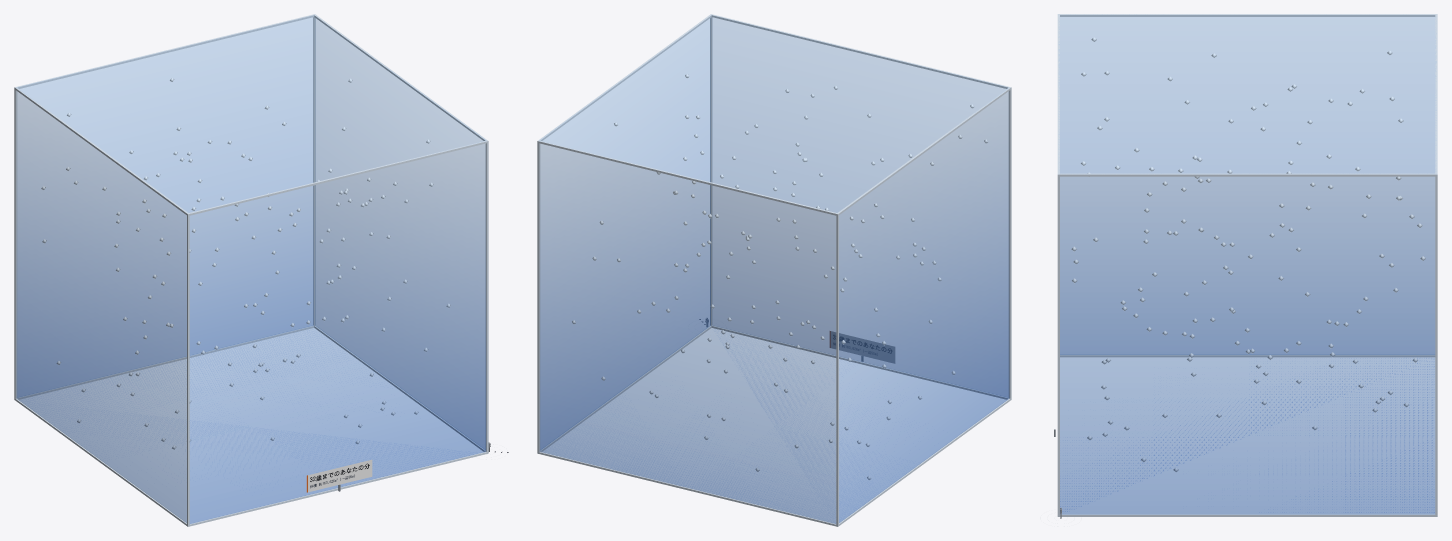
The model's file is cube_life_32.glb.
The picture shows the model from 3 angles, left to right: view 1: azimuth 30°, elevation 25°; view 2: azimuth 150°, elevation 25°; view 3: azimuth 270°, elevation 25°; orthographic projection. The views are drawn at different scales.
Parts seen in each view (by area): view 1: co2, edge, dots, label; view 2: co2, edge, dots, label; view 3: co2, edge, dots.
Boxes of the visible parts, left/top/right/bottom form: co2: left=16, top=15, right=485, bottom=523; edge: left=14, top=14, right=488, bottom=526; dots: left=41, top=78, right=450, bottom=449; label: left=306, top=459, right=372, bottom=492; co2: left=540, top=15, right=1009, bottom=523; edge: left=537, top=14, right=1011, bottom=526; dots: left=572, top=74, right=988, bottom=480; label: left=830, top=331, right=894, bottom=363; co2: left=1059, top=15, right=1436, bottom=514; edge: left=1057, top=14, right=1437, bottom=516; dots: left=1071, top=37, right=1425, bottom=472.
Bounding box in the file's own units: 58.42 × 54.7 × 57.52.
Materials: 8 (3 with a texture image).
